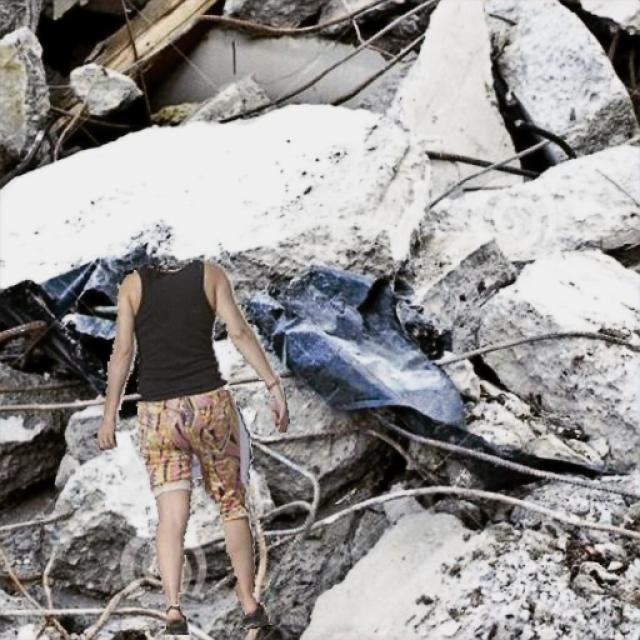Person in Rubble: (98, 260, 288, 634)
